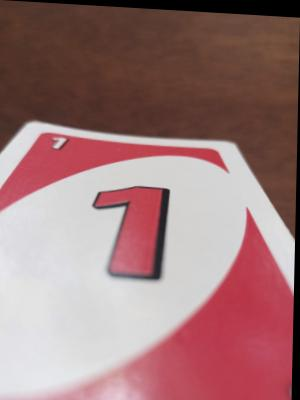num_1: (45, 131, 73, 163)
red: (0, 121, 296, 400)
